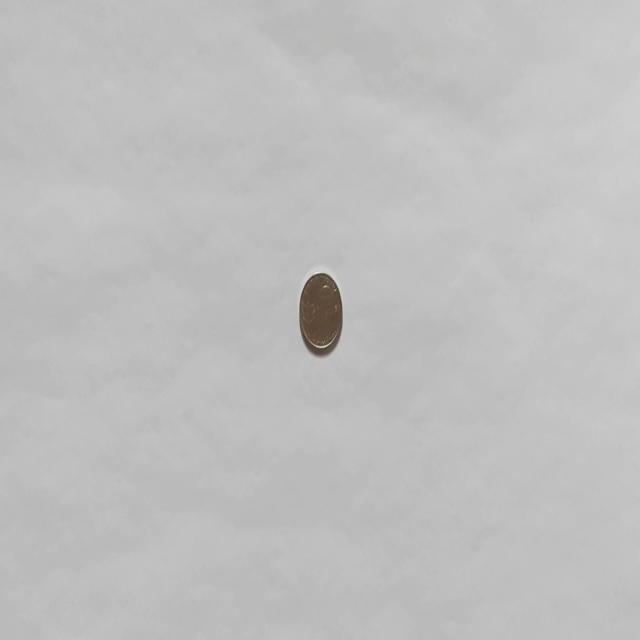seribu rupiah koin: (298, 268, 343, 354)
